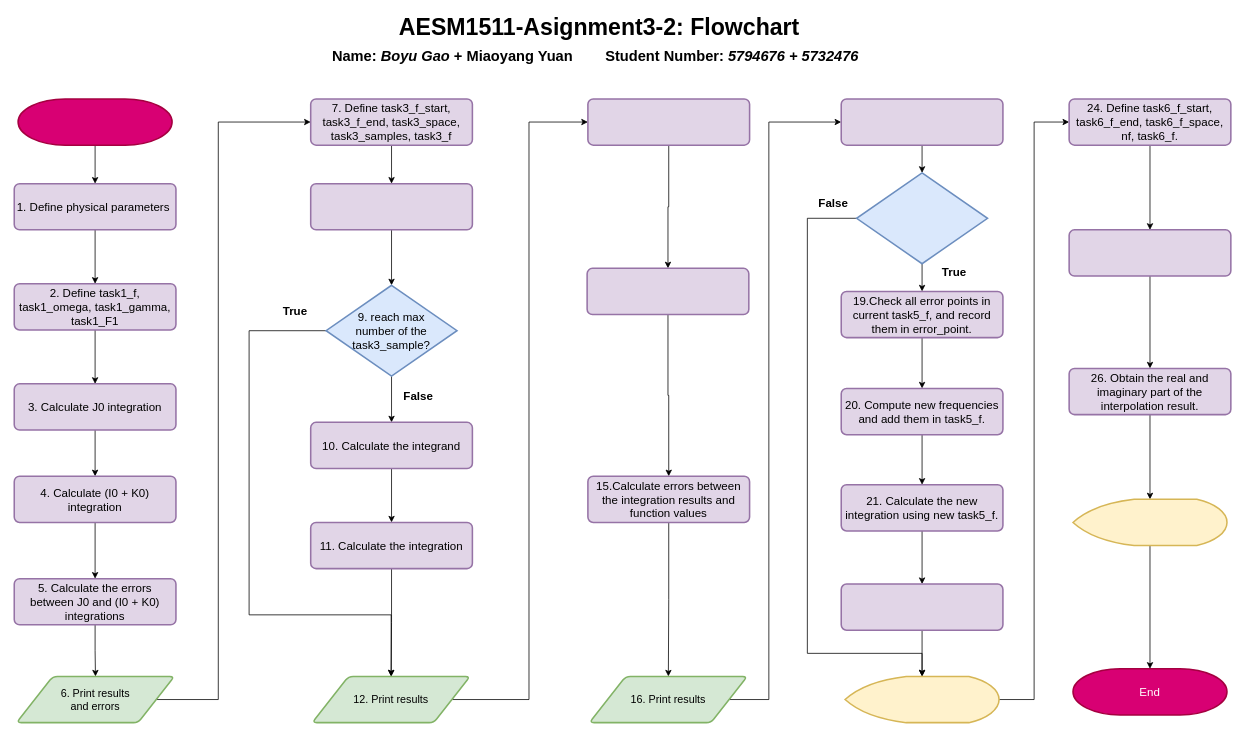
Image size: 1244x737. Some labels were removed from this diagram. Each missing label, with the centre of its shape:
13. Define task4_f, task4_F1, task4_f_odd, task4_F1_odd: point (668, 122)
14.Calculate the integration results: point (667, 291)
17. Define task5_f, task5_Error, max_error, num. Initialize error_point.: point (921, 122)
18. max(task5_Error) > max_error ?: point (921, 218)
22. Calculate the new interpolation using new task5_f.: point (921, 607)
23. Show Figure 1: point (921, 699)
25. Interpolate the field with new interval.: point (1149, 252)
27. Show Figure 2: point (1149, 522)
8. Initialize task3_omega, task3_gamma, task3_F1: point (391, 206)
Start: point (94, 122)
